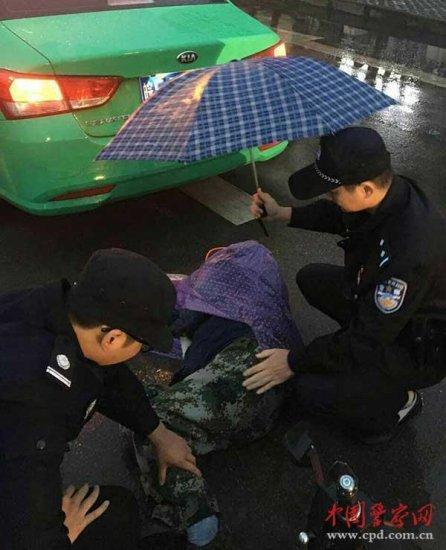Fall-Detected: (121, 223, 321, 509)
